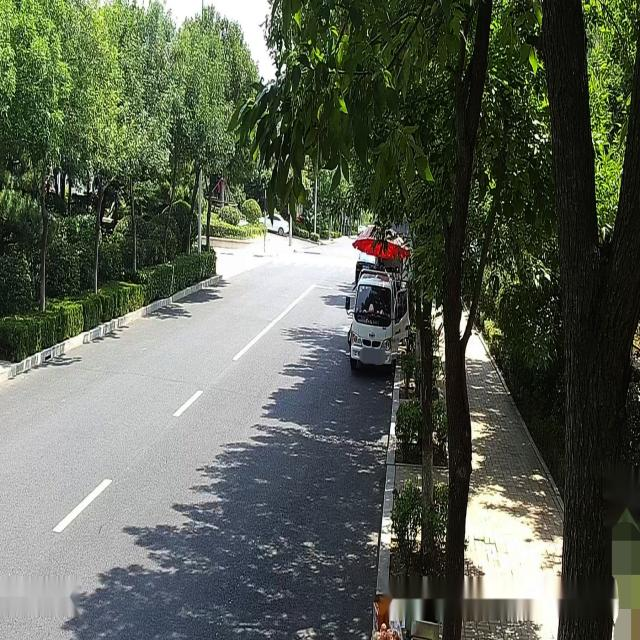car: (347, 264, 411, 372)
fixed_stall: (370, 591, 414, 640)
sunshade: (352, 223, 410, 259)
